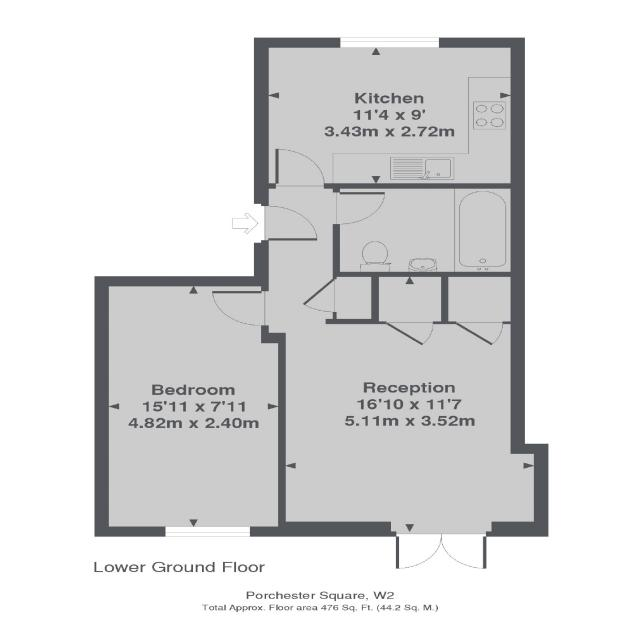DOOR: (253, 200, 322, 245), (208, 289, 270, 329), (271, 146, 329, 187), (331, 190, 389, 226)
DOUBLE DOOR: (393, 531, 488, 570)
ROOM: (95, 275, 286, 536), (257, 37, 528, 189)
WINDOW: (338, 34, 443, 50), (164, 525, 252, 538)
